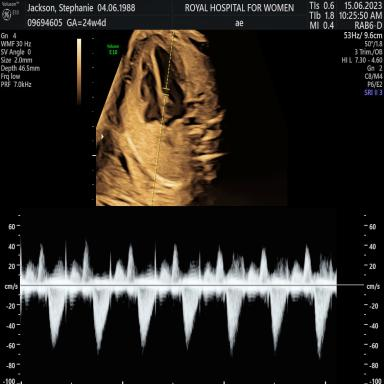Ultrasound-Waves: (26, 217, 336, 384)
